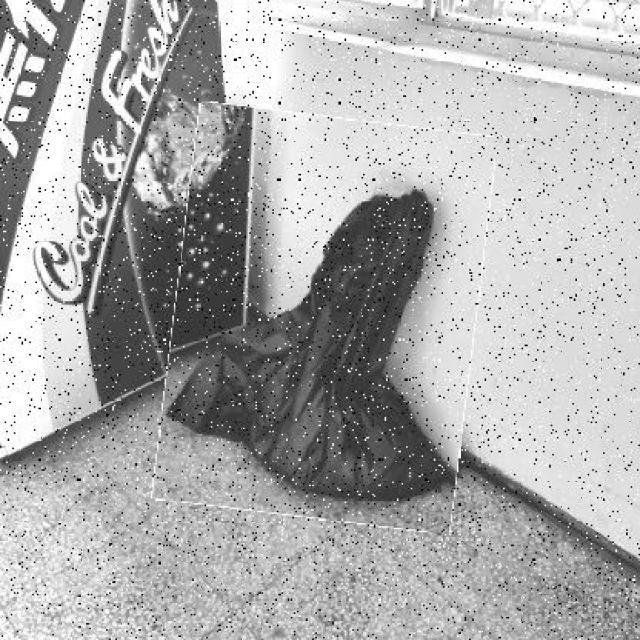waste: (162, 110, 486, 527)
